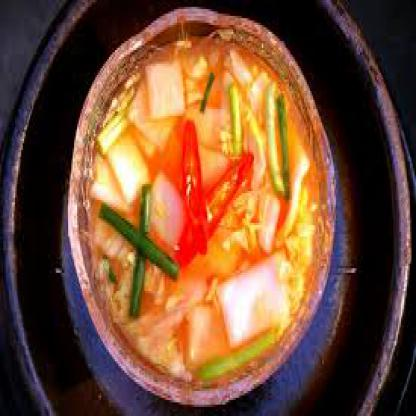nabak Kimchi: (86, 30, 319, 393)
